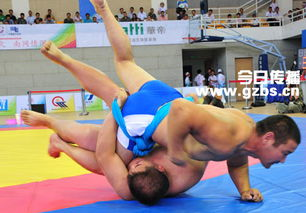10+: (1, 1, 304, 112)
down: (22, 1, 303, 168), (11, 35, 215, 204)
